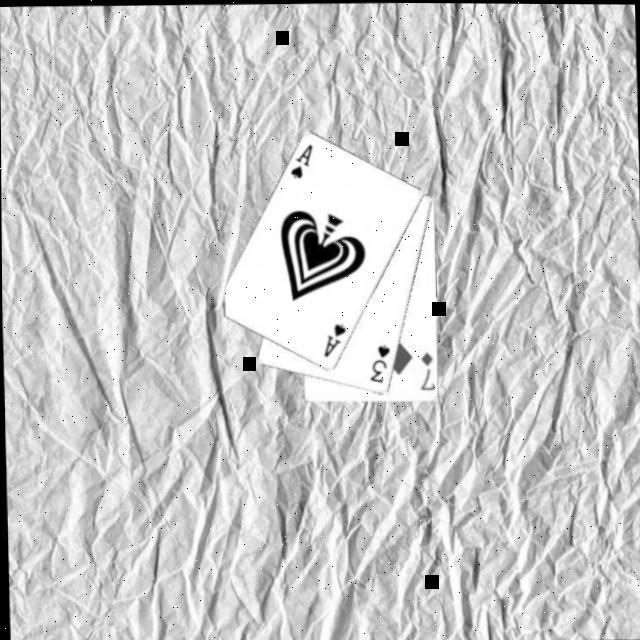3S: (368, 339, 394, 383)
7D: (418, 346, 437, 390)
AS: (288, 139, 318, 180), (321, 318, 351, 358)
